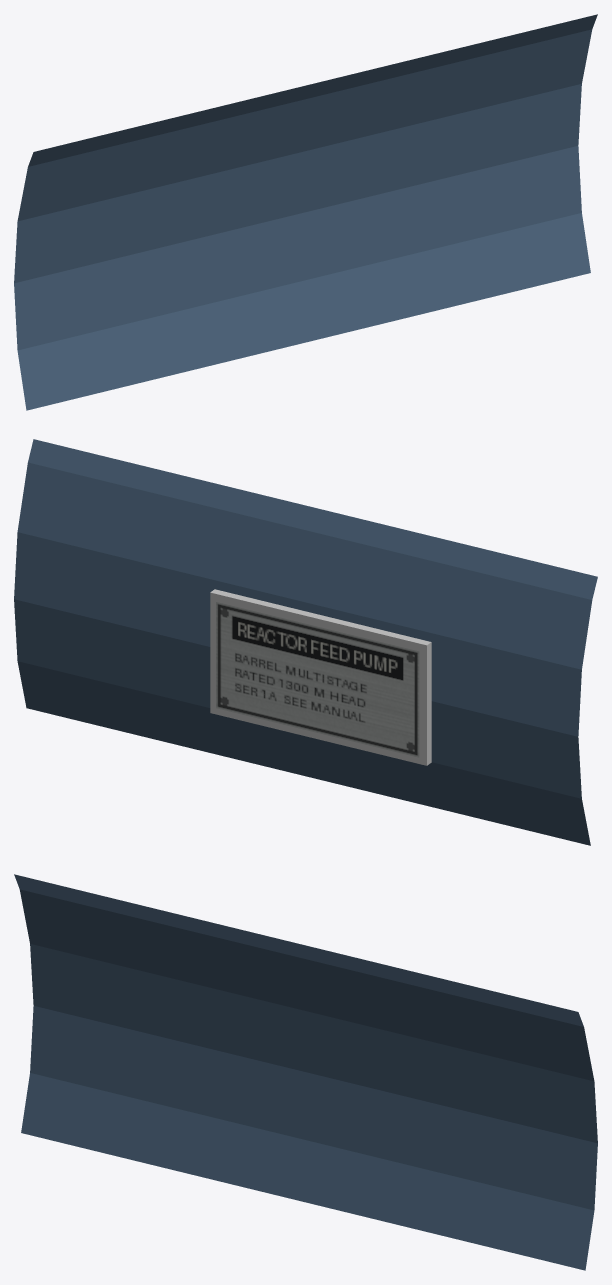
The model's file is cell_29.obj.
3 views of the same model, one above another, from view 1: azimuth 30°, elevation 25°; view 2: azimuth 150°, elevation 25°; view 3: azimuth 330°, elevation 25° (orthographic).
Size of the model in its own units: 1 by 0.4468 by 0.0805.
